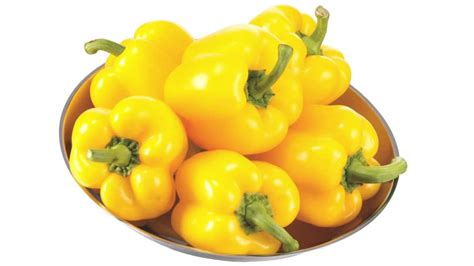???: (68, 4, 383, 256)
